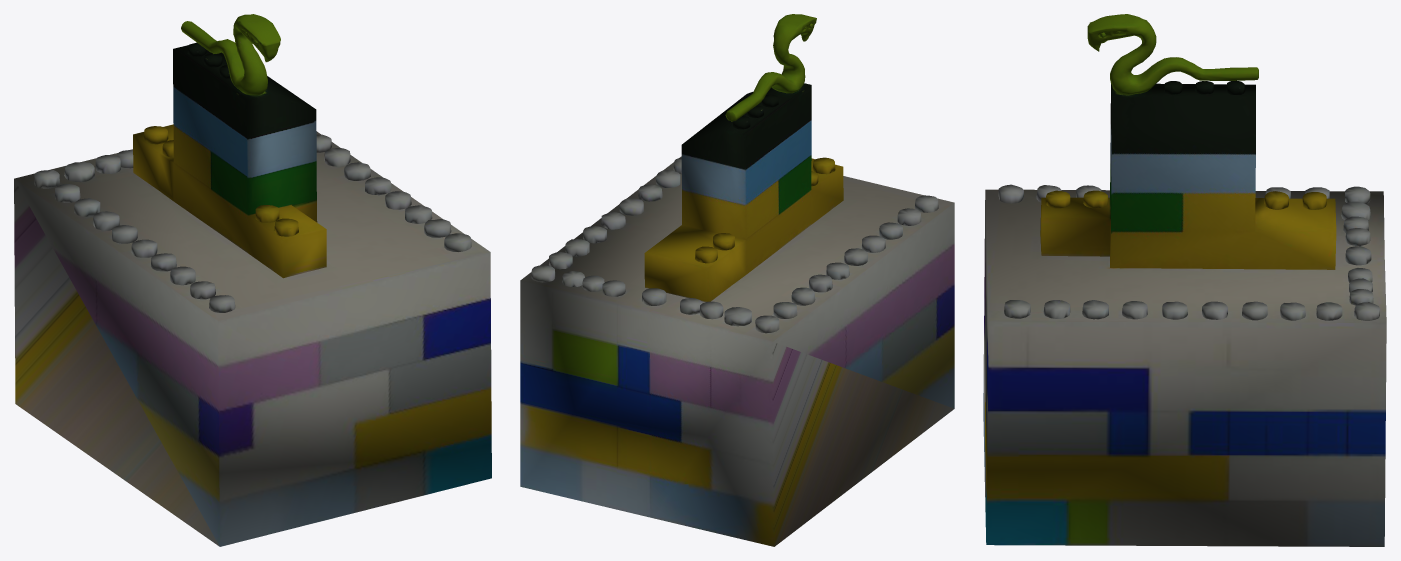
The model's file is object_60_asset_3360e902.glb.
3 views of the same model, side by side, from view 1: azimuth 30°, elevation 25°; view 2: azimuth 150°, elevation 25°; view 3: azimuth 270°, elevation 25° (orthographic). The views are drawn at different scales.
Parts seen in each view (by area): view 1: tripo_node_dee42cb9-ff3b-4055-be6e-7f13f1799b4c; view 2: tripo_node_dee42cb9-ff3b-4055-be6e-7f13f1799b4c; view 3: tripo_node_dee42cb9-ff3b-4055-be6e-7f13f1799b4c.
Boxes of the visible parts, x1,y1,x2,y2 form: tripo_node_dee42cb9-ff3b-4055-be6e-7f13f1799b4c: [14, 14, 491, 546]; tripo_node_dee42cb9-ff3b-4055-be6e-7f13f1799b4c: [520, 14, 954, 546]; tripo_node_dee42cb9-ff3b-4055-be6e-7f13f1799b4c: [983, 14, 1386, 546].
Size of the model in its own units: 0.6426 by 0.998 by 0.8145.
Materials: 1 (1 with a texture image).
